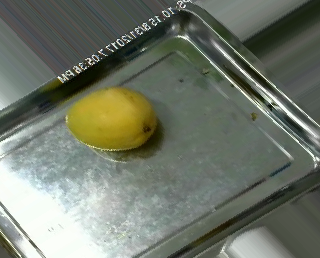Mango: (69, 89, 155, 152)
